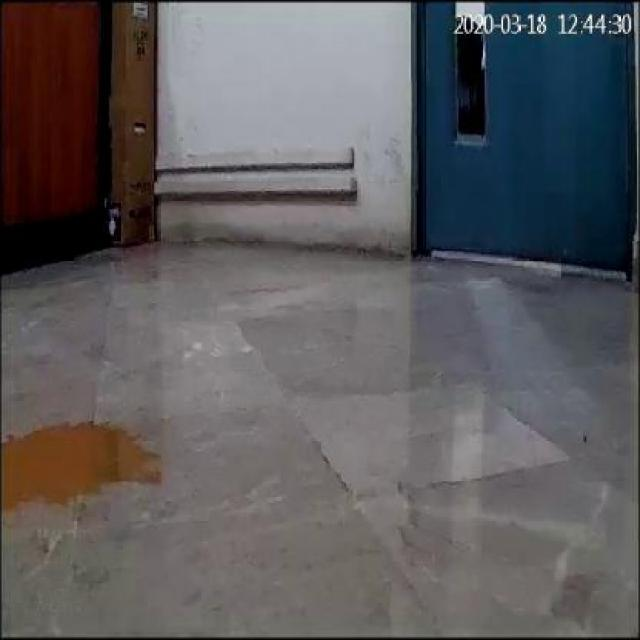spill: (6, 422, 180, 513)
